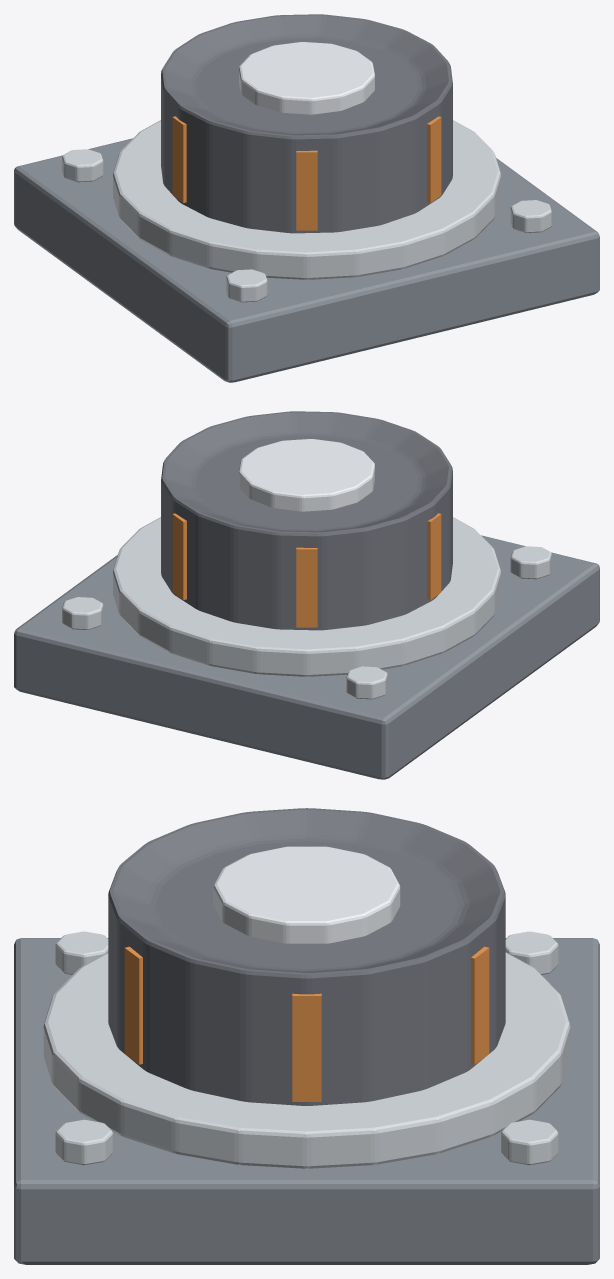
Rendered from motor_rotary.glb.
The picture shows the model from 3 angles, top to bottom: view 1: azimuth 30°, elevation 25°; view 2: azimuth 150°, elevation 25°; view 3: azimuth 270°, elevation 25°; orthographic projection. The views are drawn at different scales.
Visible parts, largest first — view 1: motor_rotary; view 2: motor_rotary; view 3: motor_rotary.
Boxes of the visible parts, box(x1,y1,x2,y2) form: motor_rotary: box(14, 14, 599, 382); motor_rotary: box(14, 411, 599, 779); motor_rotary: box(14, 808, 599, 1264).
Bounding box in the file's own units: 1 × 0.4873 × 1.
